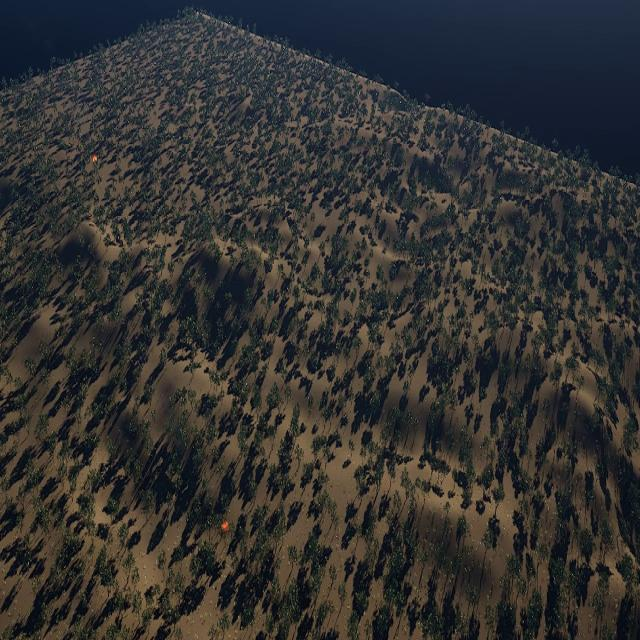fire: (221, 521, 229, 532), (93, 154, 97, 162)
